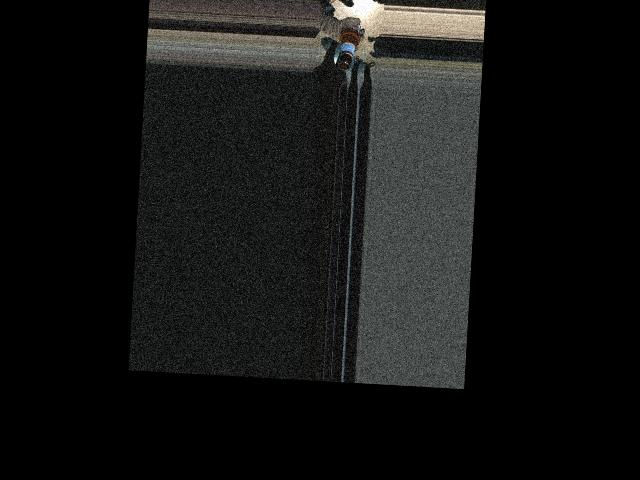beer: (337, 19, 362, 71)
